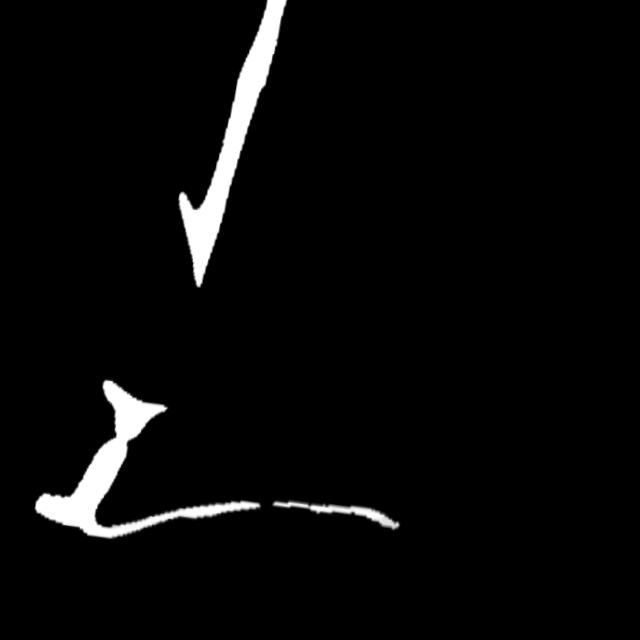sup: (248, 496, 279, 521)
